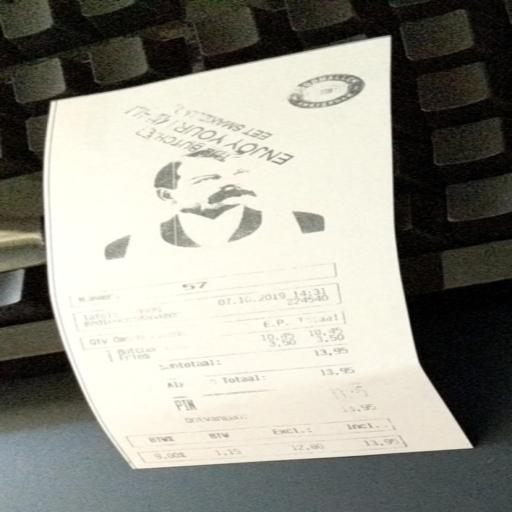paper: (17, 36, 508, 506)
